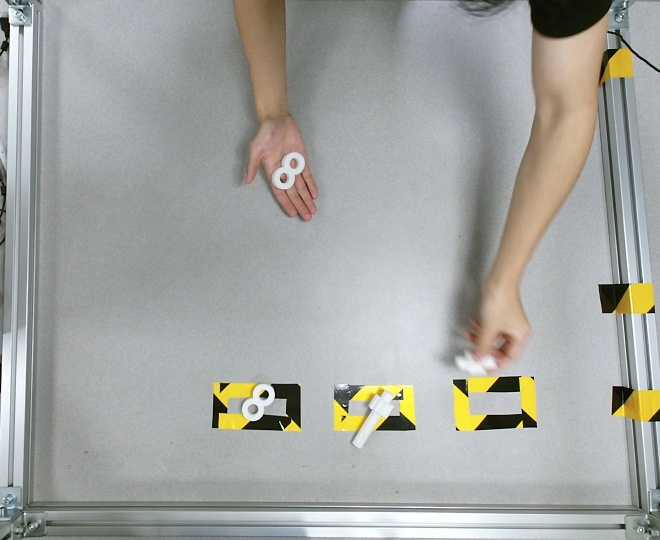stage_1: (271, 152, 304, 189)
